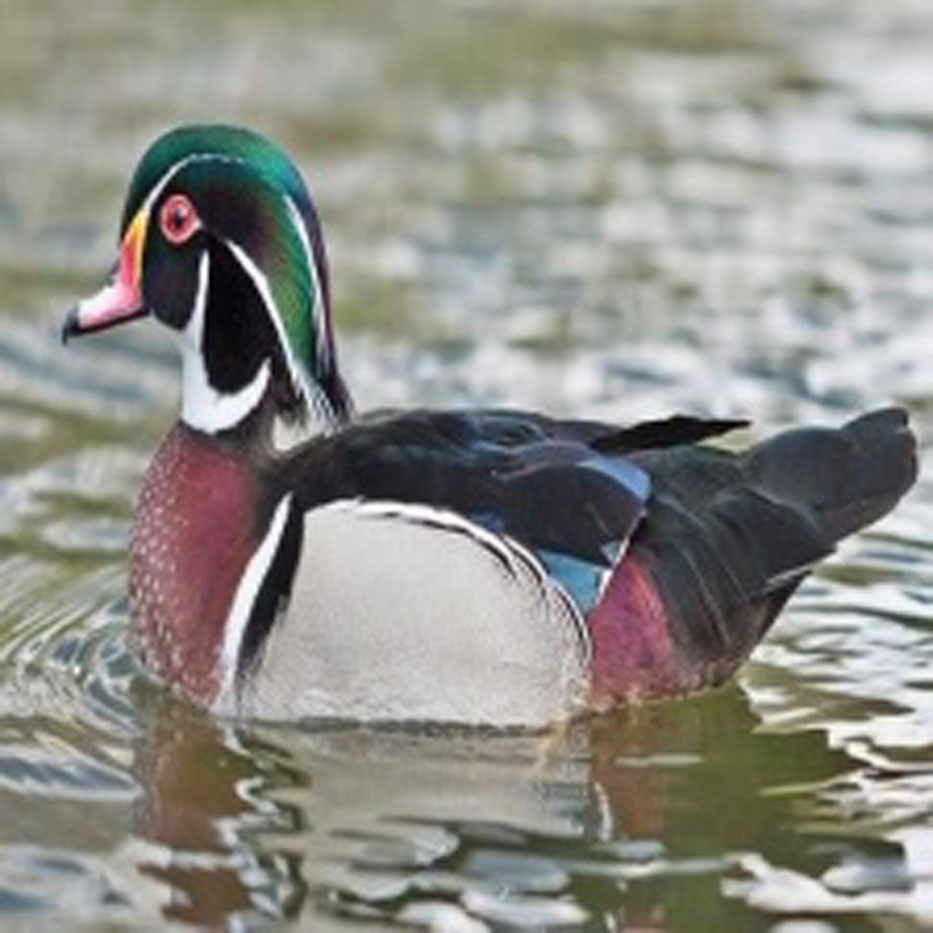Mencari Makan di Lumpur: (31, 254, 157, 349)
